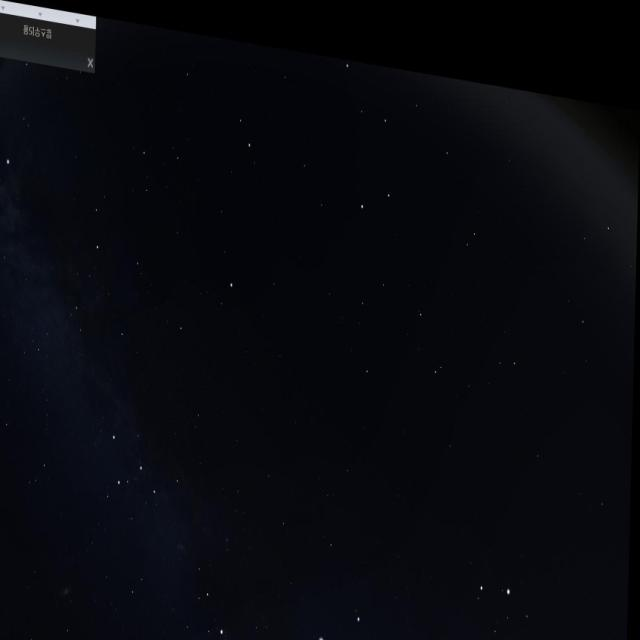cassiopeia: (95, 411, 186, 523)
